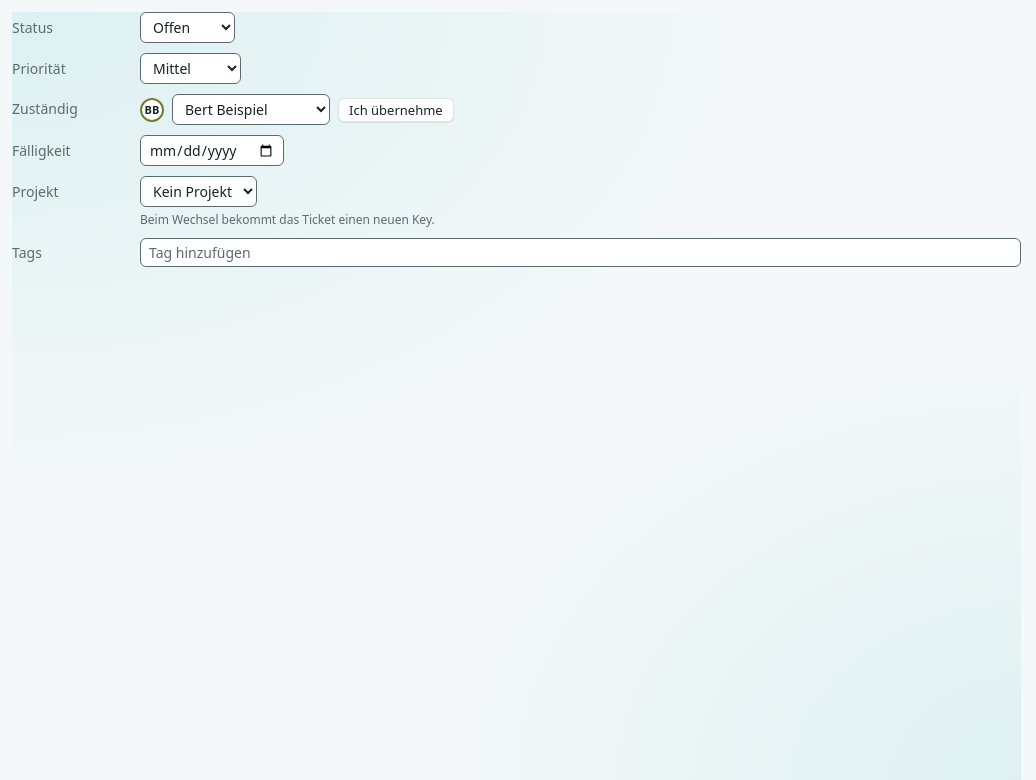
Test: "Zuständig" at a ticket of the household (ADR-0068) › takes the ticket over with one click on "Ich übernehme", which then goes away
Step 1. Click the button "Ich übernehme" → (396, 110), box 338,98 -> 454,122
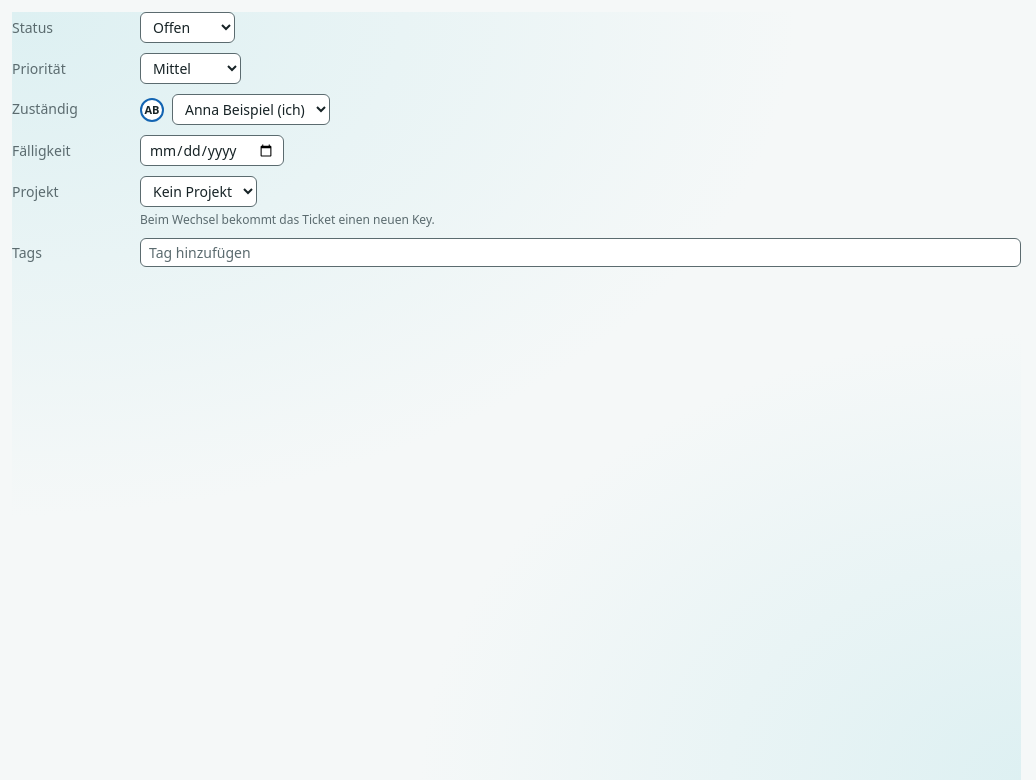
Expected: the button "Ich übernehme" is gone
Expected: the dropdown labelled "Zuständig" shows "Anna Beispiel (ich)", 172,94 -> 330,125
